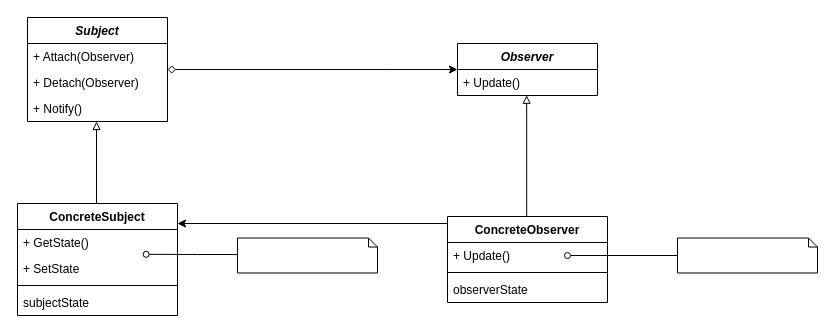
Some shapes in this 835 by 336 pixel diagram are drawn without their labels. Here are the shapes that lost their labels. From the top down, the centre of each, then its label:
At point 307,255: "return subjectState".
At point 747,255: "observerStatre = subject->GetState".
